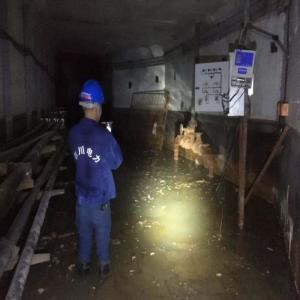blue: (82, 79, 105, 122)
